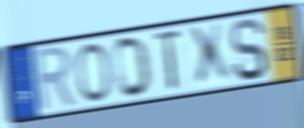O: (112, 34, 153, 100), (74, 41, 113, 104)
R: (33, 43, 79, 116)
S: (229, 16, 270, 83)
T: (154, 26, 184, 95)
X: (186, 21, 234, 91)
